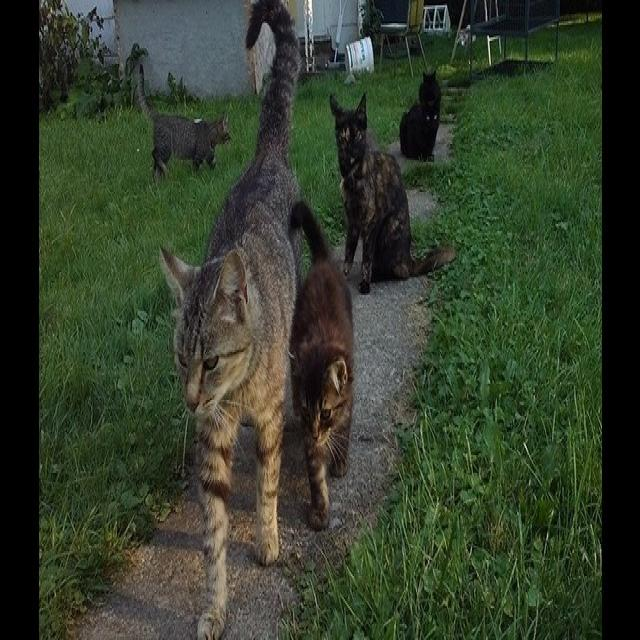cat: (160, 0, 300, 637), (330, 96, 455, 293), (290, 202, 354, 530), (134, 60, 230, 179), (400, 71, 441, 159)
